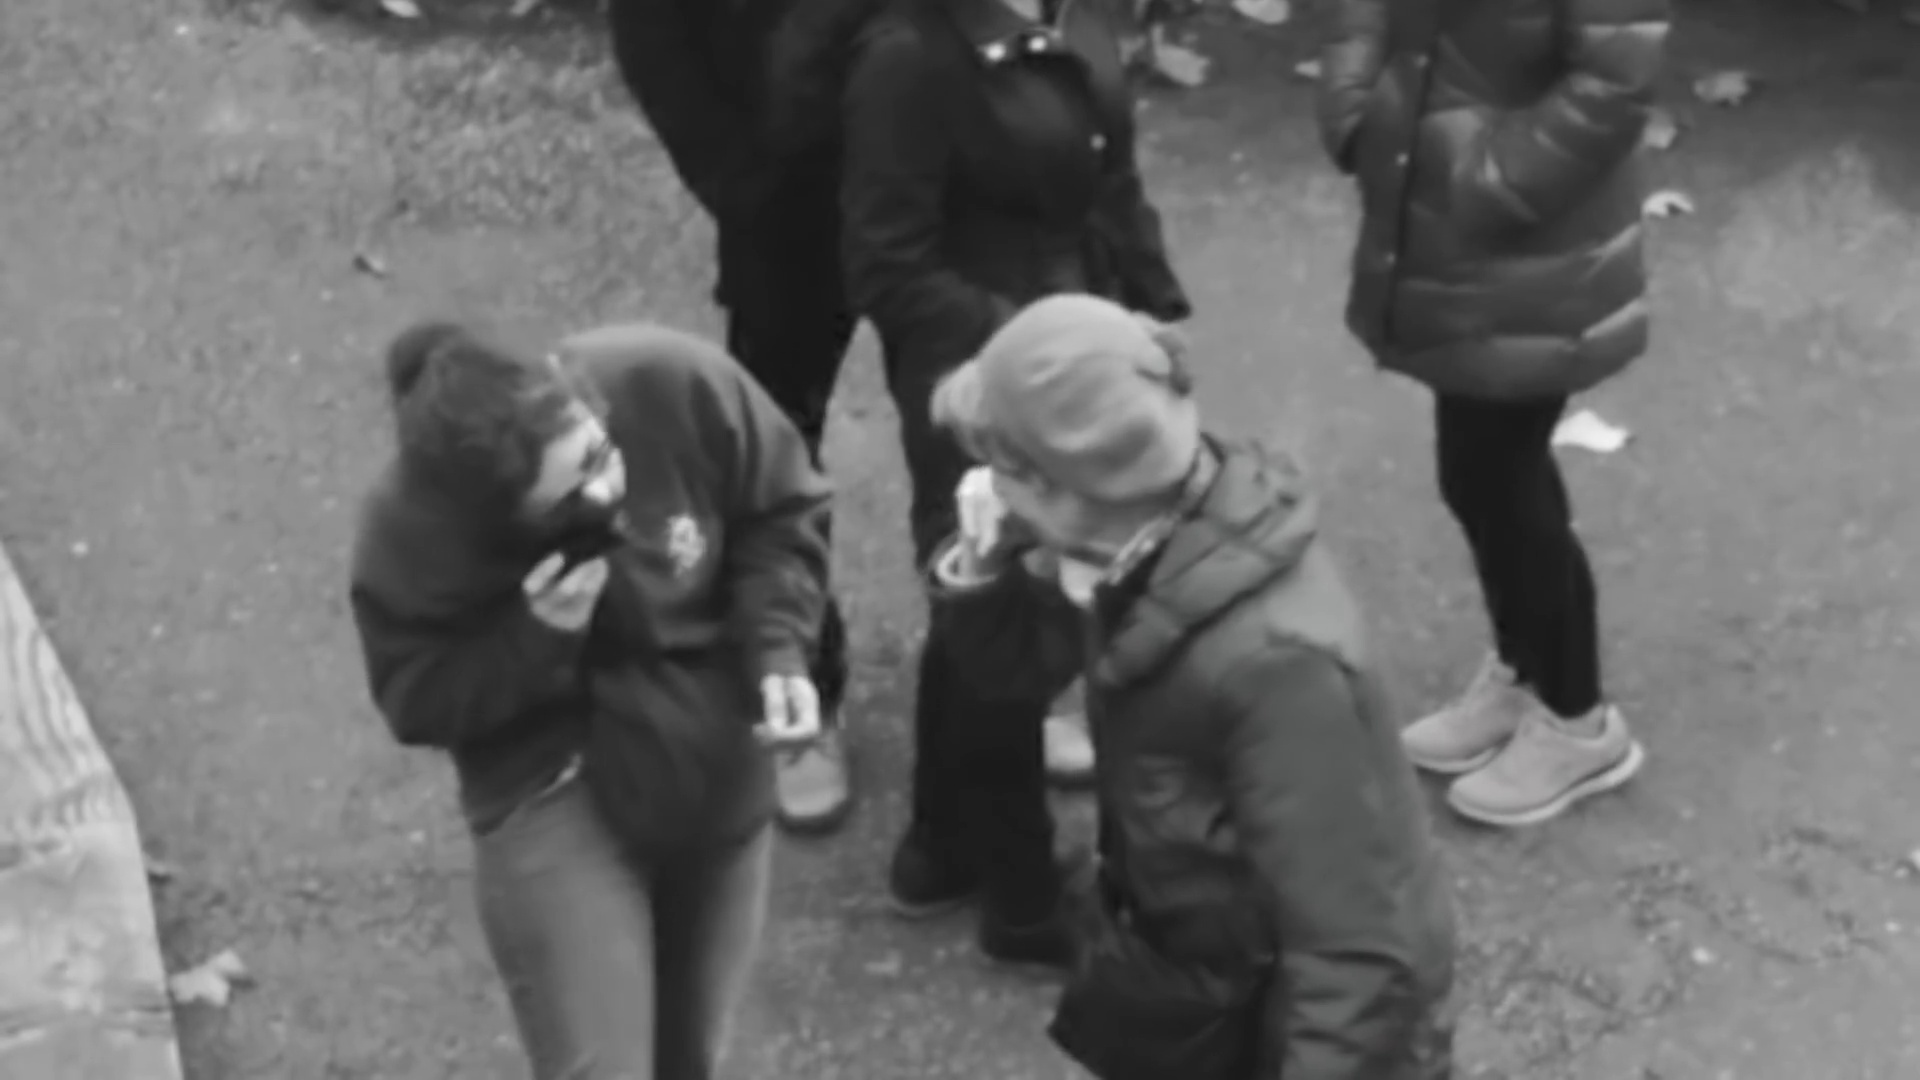face: (515, 414, 650, 537)
